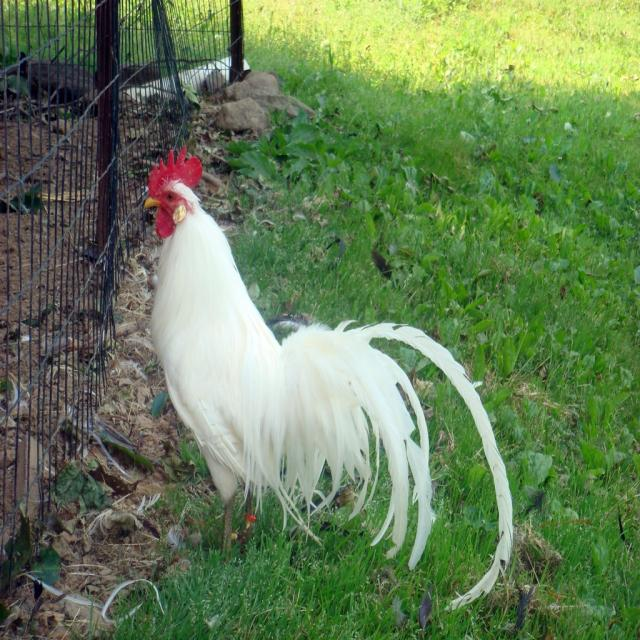Chicken: (142, 140, 512, 613)
